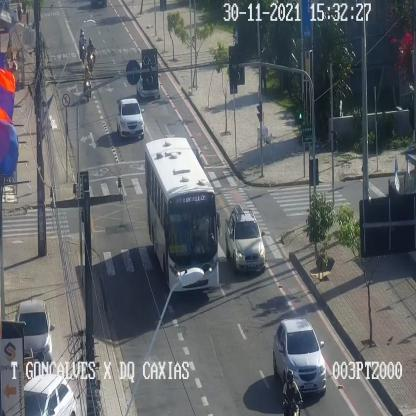bus: (144, 137, 219, 289)
car: (272, 318, 326, 397), (225, 206, 266, 278), (16, 301, 54, 365), (24, 374, 75, 416), (117, 98, 144, 138)
motorbike: (283, 370, 303, 415), (82, 67, 93, 103), (78, 27, 87, 61), (87, 39, 95, 73)
person: (232, 26, 239, 46)
